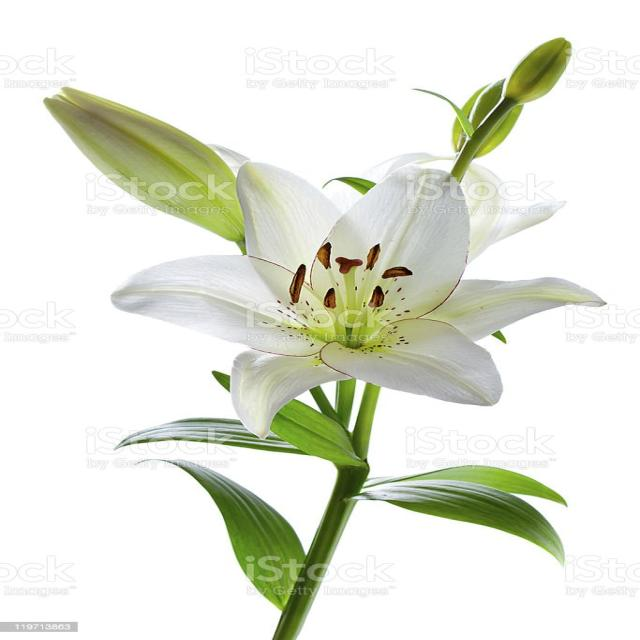lily: (91, 158, 598, 450)
